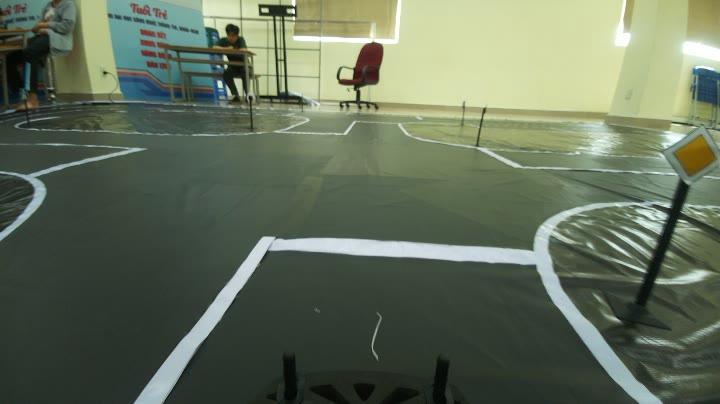priority: (648, 123, 720, 192)
